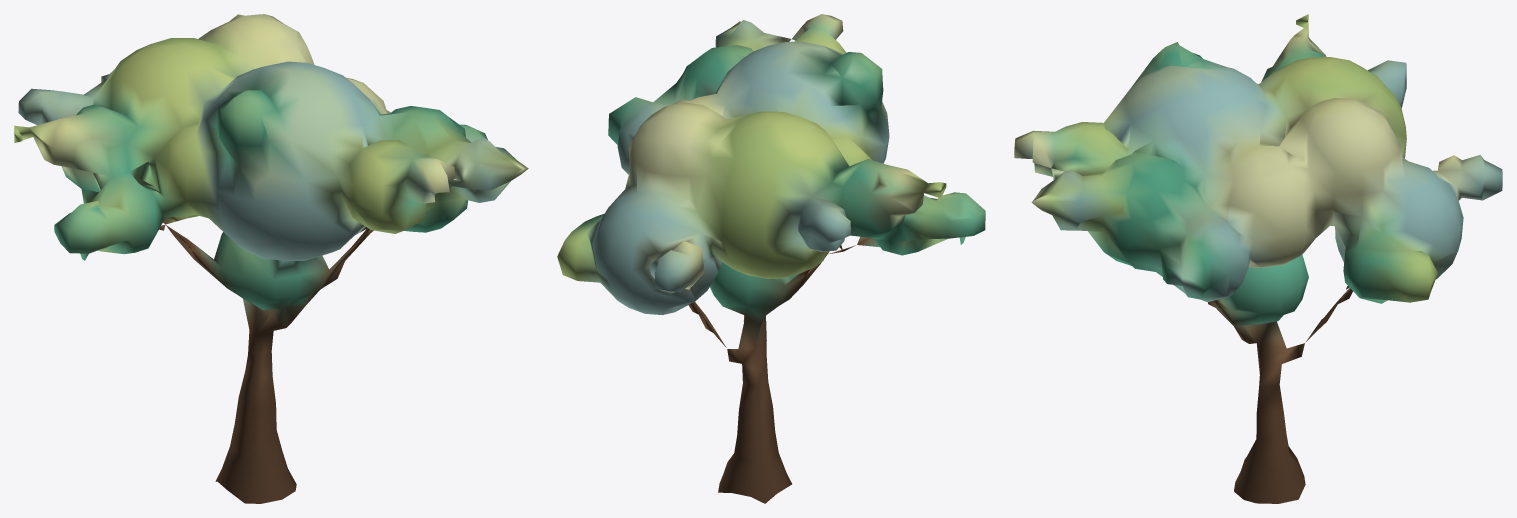
Rendered from canopy-tree-lod2.obj.
3 views of the same model, side by side, from view 1: azimuth 30°, elevation 25°; view 2: azimuth 150°, elevation 25°; view 3: azimuth 270°, elevation 25° (orthographic). The views are drawn at different scales.
Visible parts, largest first — view 1: simplified; view 2: simplified; view 3: simplified.
Boxes of the visible parts, <box> form: simplified: <box>14,14,528,503</box>; simplified: <box>557,14,985,503</box>; simplified: <box>1014,14,1502,503</box>.
Size of the model in its own units: 443 by 455 by 483.
